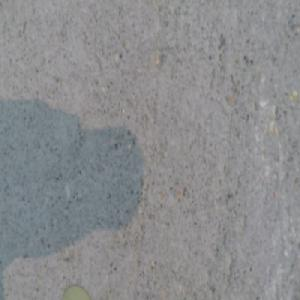Washer: (62, 284, 90, 300)
